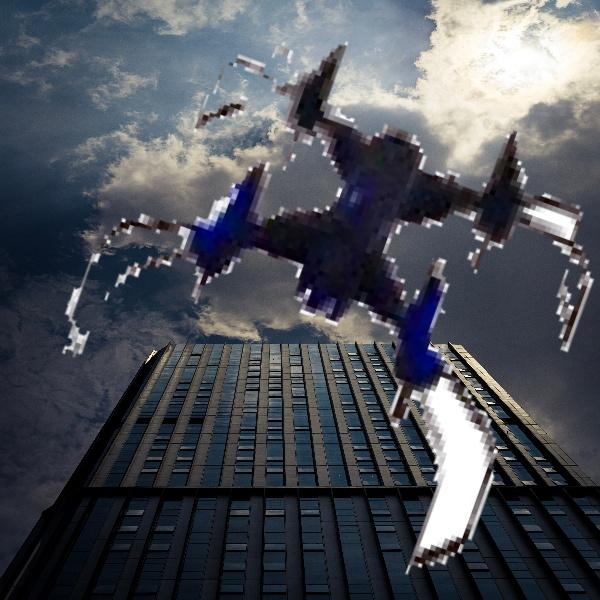drone: (63, 18, 600, 556)
